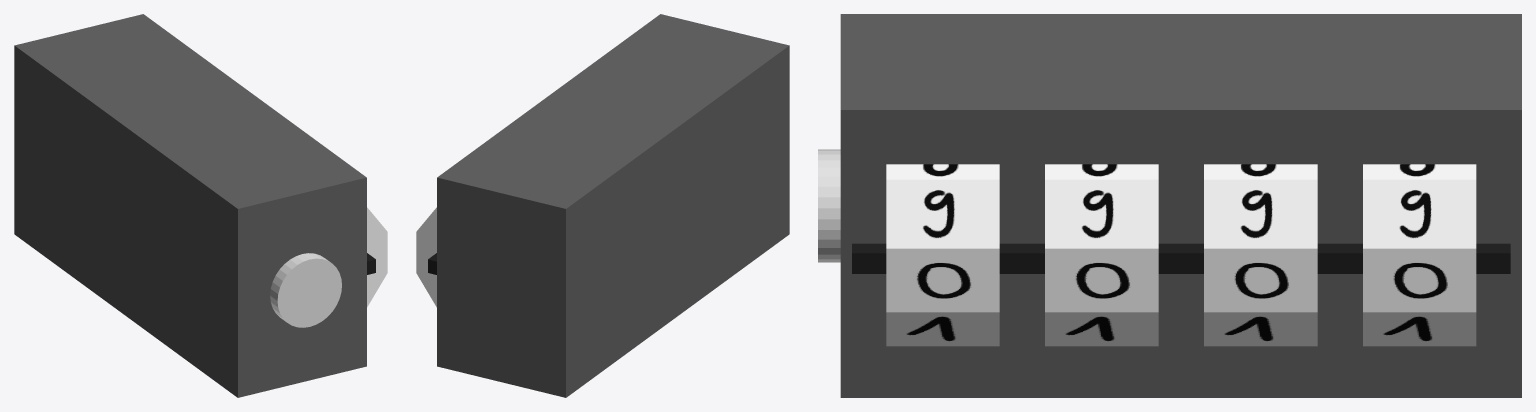
Rendered from locker.glb.
3 views of the same model, side by side, from view 1: azimuth 30°, elevation 25°; view 2: azimuth 150°, elevation 25°; view 3: azimuth 270°, elevation 25° (orthographic). The views are drawn at different scales.
Parts seen in each view (by area): view 1: Cube, ResetBtn, Cylinder1; view 2: Cube, Cylinder4; view 3: Cube, Cylinder1, Cylinder2, Cylinder3, Cylinder4, Middle, ResetBtn.
Boxes of the visible parts, <box> form: Cube: <box>14,14,366,397</box>; ResetBtn: <box>270,253,341,327</box>; Cylinder1: <box>367,207,387,307</box>; Cube: <box>437,14,789,397</box>; Cylinder4: <box>416,207,436,307</box>; Cube: <box>840,14,1521,397</box>; Cylinder1: <box>886,164,999,346</box>; Cylinder2: <box>1045,164,1158,346</box>; Cylinder3: <box>1204,164,1317,346</box>; Cylinder4: <box>1363,164,1476,346</box>; Middle: <box>852,243,1510,273</box>; ResetBtn: <box>818,149,840,262</box>.
Bounding box in the file's own units: 2.55 × 2.8 × 6.2.
6 materials, 4 textured.
